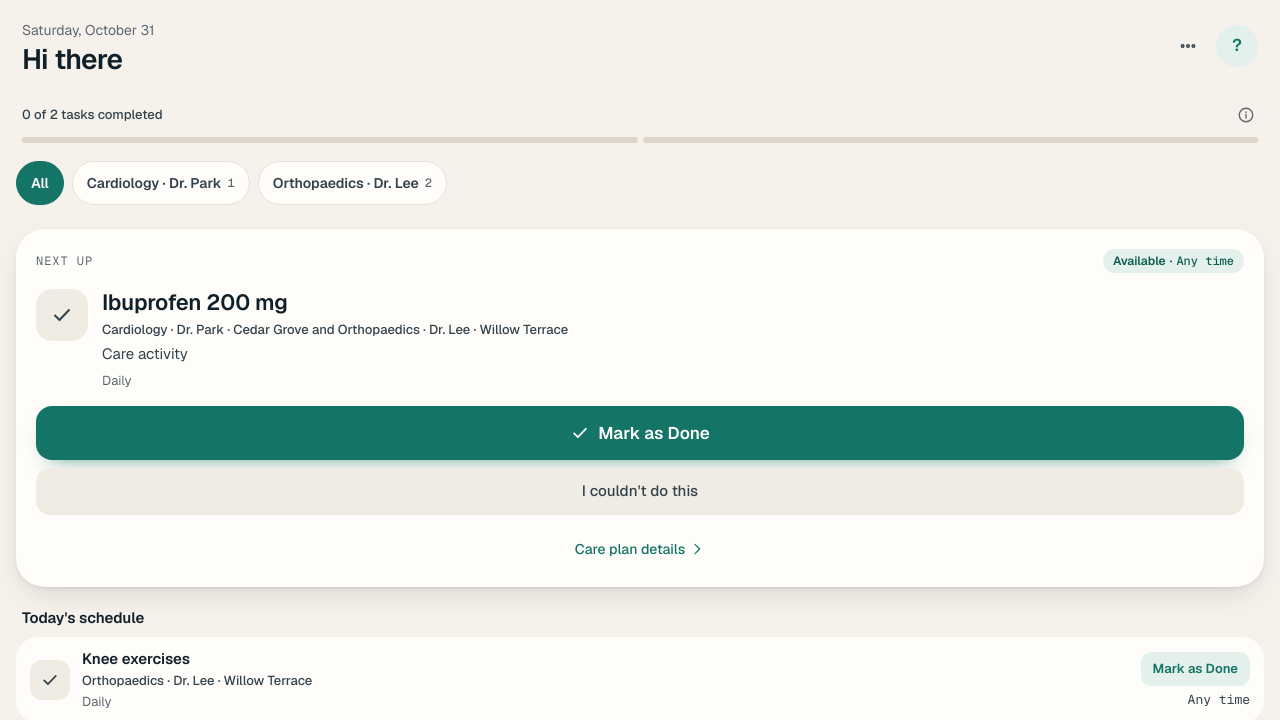
Test: Today with several care teams › filtering to either owner keeps the combined entry
Step 1. Click the button "Cardiology · Dr. Park 1" → coordinates (161, 183), box x1=72 y1=161 x2=250 y2=205
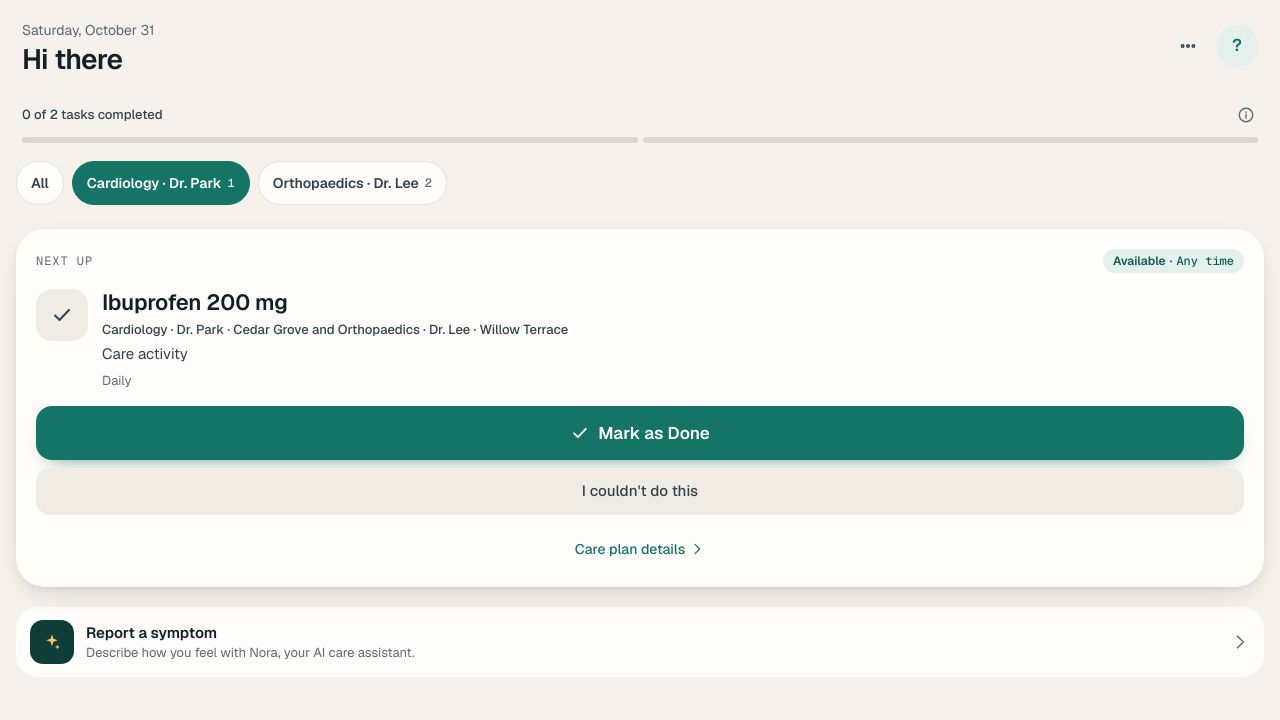
Expected: the heading "Ibuprofen 200 mg" is shown, x1=102 y1=288 x2=288 y2=316
Expected: the button "Knee exercises" is gone
